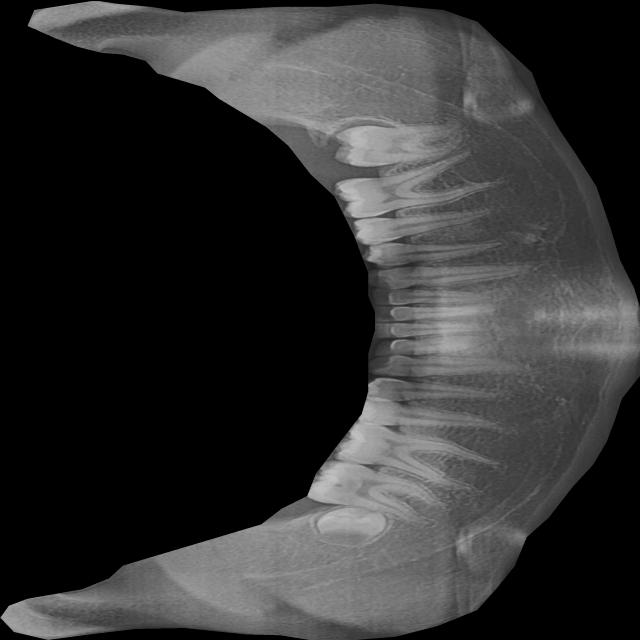mandibula: (0, 0, 640, 640)
